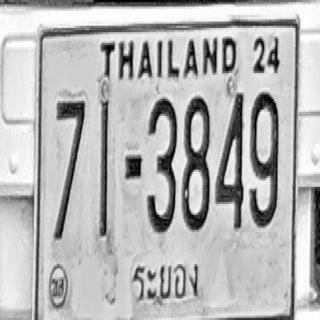N01: (100, 98, 109, 237)
N03: (147, 96, 177, 233)
N04: (216, 91, 244, 229)
N07: (54, 98, 85, 239)
N08: (182, 96, 210, 231)
N09: (250, 91, 279, 227)
P53: (132, 250, 200, 307)
